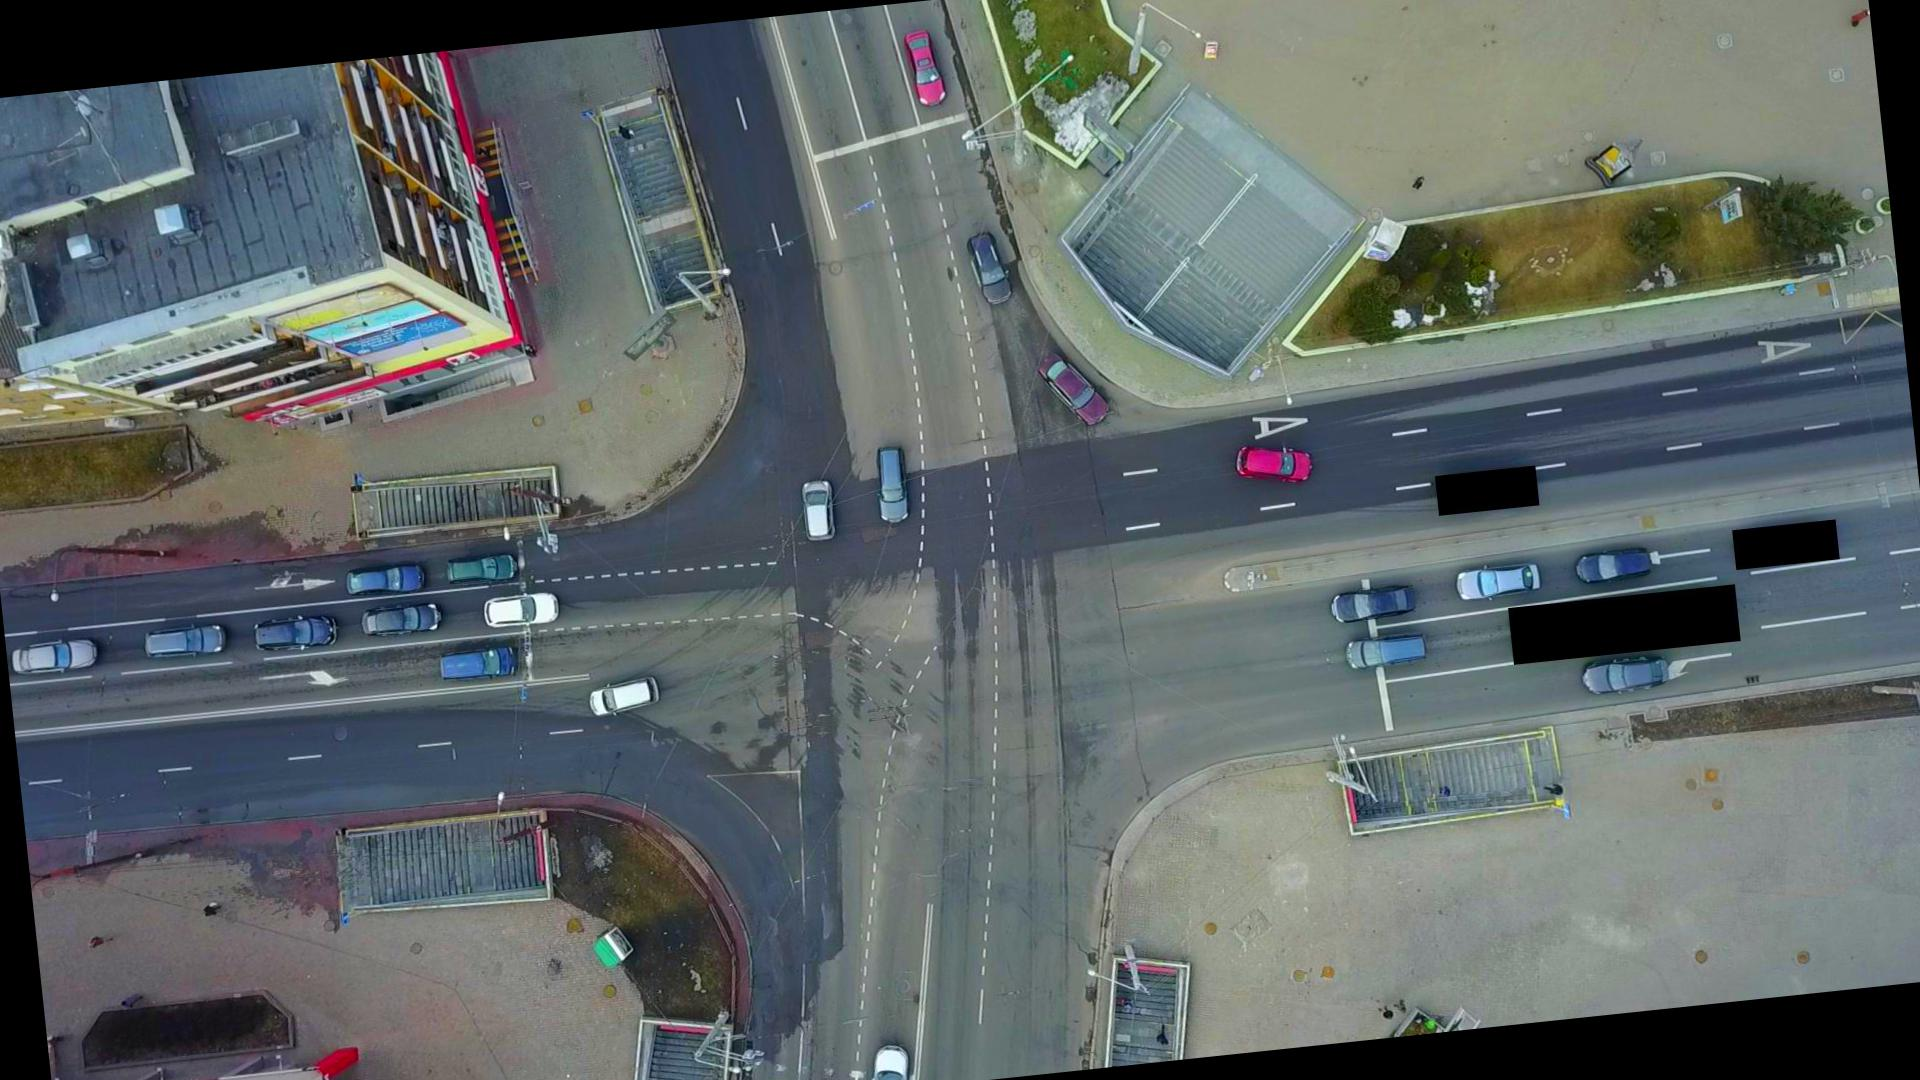vehicle: (1035, 345, 1113, 433), (1452, 556, 1544, 607), (1578, 651, 1672, 699), (1233, 436, 1315, 491), (1328, 579, 1419, 625), (964, 228, 1015, 307), (251, 609, 340, 654), (141, 618, 229, 663), (902, 28, 949, 109), (1342, 629, 1431, 673), (584, 673, 665, 720), (359, 597, 444, 640), (481, 587, 562, 632), (1572, 543, 1654, 587), (872, 442, 914, 525), (343, 560, 427, 601), (438, 644, 520, 684), (443, 549, 521, 588), (798, 477, 839, 543)
